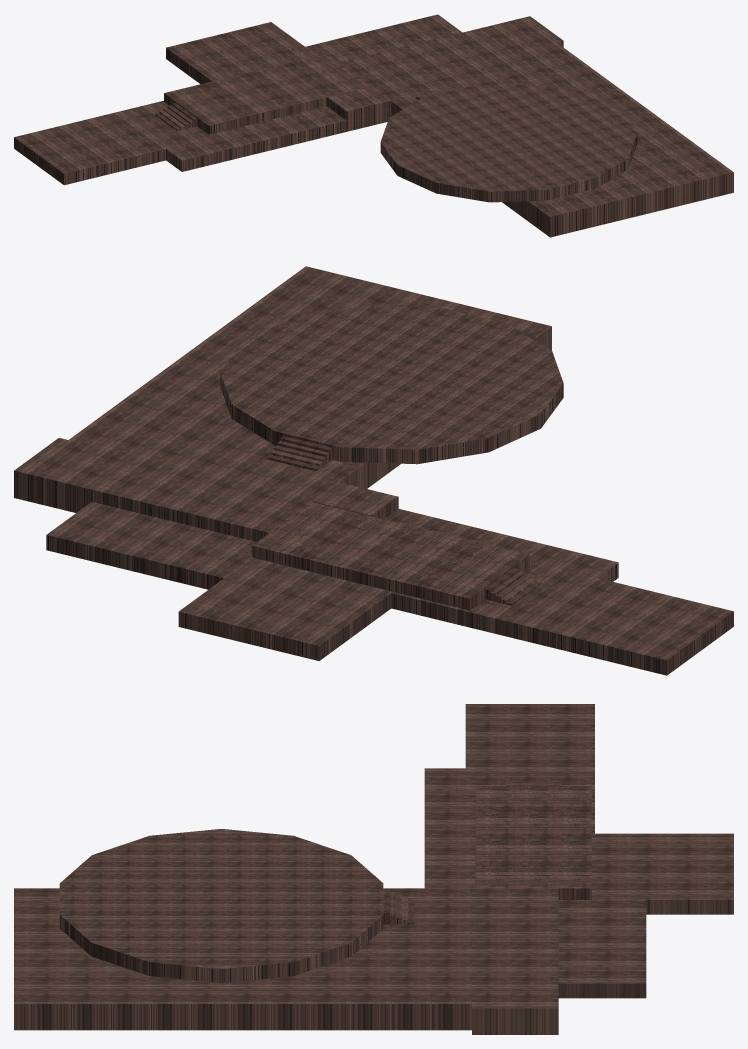
File: SM_EN_1002_chuan01.FBX
3 views of the same model, one above another, from view 1: azimuth 30°, elevation 25°; view 2: azimuth 150°, elevation 25°; view 3: azimuth 270°, elevation 25° (orthographic). The views are drawn at different scales.
Visible parts, largest first — view 1: SM_EN_1002_chuan01, SM_EN_1002_chuan03, SM_EN_1002_chuan02; view 2: SM_EN_1002_chuan01, SM_EN_1002_chuan03, SM_EN_1002_chuan02, SM_EN_1002_chuan004; view 3: SM_EN_1002_chuan01, SM_EN_1002_chuan03, SM_EN_1002_chuan02, SM_EN_1002_chuan004.
Part boxes in pixels (left/top/right/bottom): SM_EN_1002_chuan01: left=14, top=14, right=733, bottom=237; SM_EN_1002_chuan03: left=380, top=84, right=637, bottom=202; SM_EN_1002_chuan02: left=155, top=53, right=370, bottom=134; SM_EN_1002_chuan01: left=14, top=266, right=733, bottom=675; SM_EN_1002_chuan03: left=220, top=305, right=563, bottom=464; SM_EN_1002_chuan02: left=252, top=502, right=541, bottom=610; SM_EN_1002_chuan004: left=267, top=436, right=332, bottom=471; SM_EN_1002_chuan01: left=14, top=704, right=733, bottom=1034; SM_EN_1002_chuan03: left=59, top=829, right=383, bottom=982; SM_EN_1002_chuan02: left=476, top=783, right=591, bottom=899; SM_EN_1002_chuan004: left=383, top=890, right=414, bottom=924.
Bounding box in the file's own units: 3174 × 189 × 3055.
